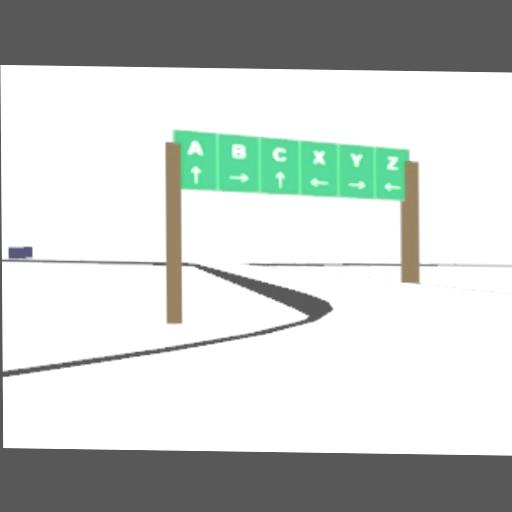A: (186, 138, 203, 153)
B: (231, 142, 246, 157)
C: (272, 146, 286, 160)
Left: (308, 176, 328, 186), (383, 182, 402, 190)
Right: (228, 171, 248, 182), (345, 178, 365, 188)
Straight: (189, 163, 201, 182), (274, 170, 284, 187)
X: (311, 148, 325, 163)
Y: (348, 151, 362, 166)
Z: (386, 155, 398, 169)
